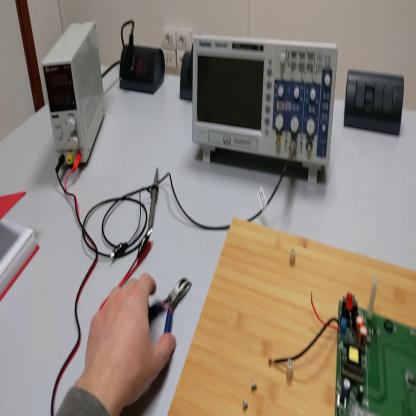hand: (83, 274, 174, 407)
low voltage board: (268, 276, 416, 416)
oscilloscope: (192, 34, 340, 185)
oscilloscope probe tip: (143, 167, 162, 235)
pliers: (148, 275, 193, 334)
power supply: (44, 19, 107, 170)
register: (2, 195, 40, 298)
socket: (122, 44, 166, 98), (181, 48, 195, 103)
working area: (169, 222, 416, 415)
